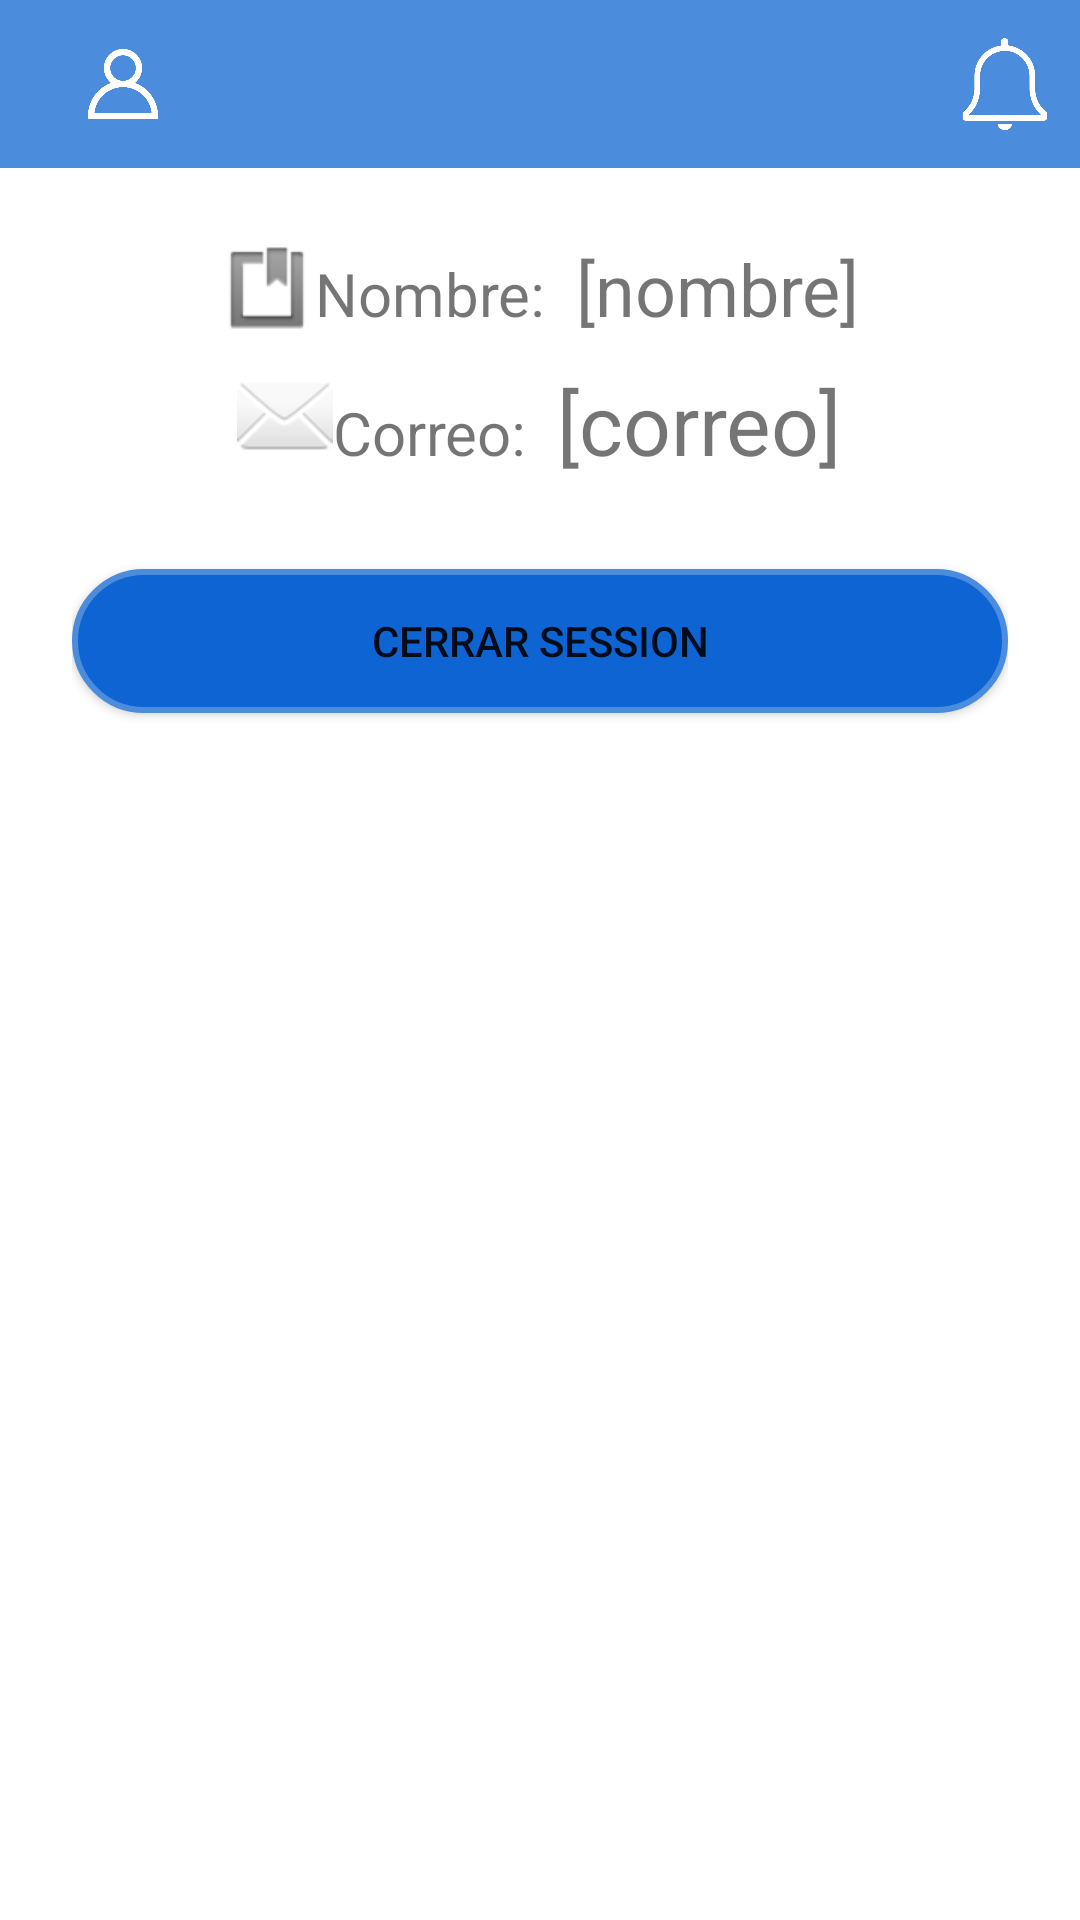

Named icons in this screenshot (1080px×1920px) and their bounding boxes, [x1=x1, y1=y1, x2=x2, y2=y2]:
email: [x1=237, y1=384, x2=333, y2=450]
Notification Icon: [x1=963, y1=38, x2=1047, y2=130]
User Icon: [x1=88, y1=49, x2=158, y2=119]
